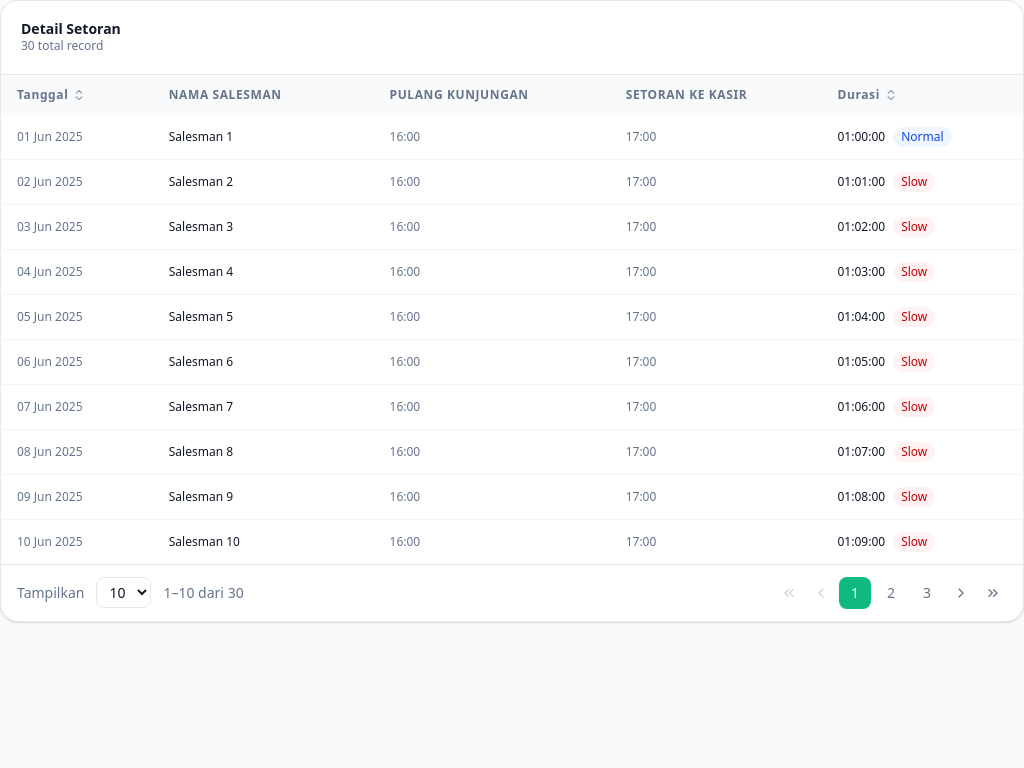
Workflow 5 — Table navigation: pagination controls (Requirements 5.1, 8.3, 8.4, 8.5) › navigates to the previous page after going forward
# Go to page 2
Click the button named "halaman berikutnya". click: (961,593)
box: left=947, top=579, right=975, bottom=607
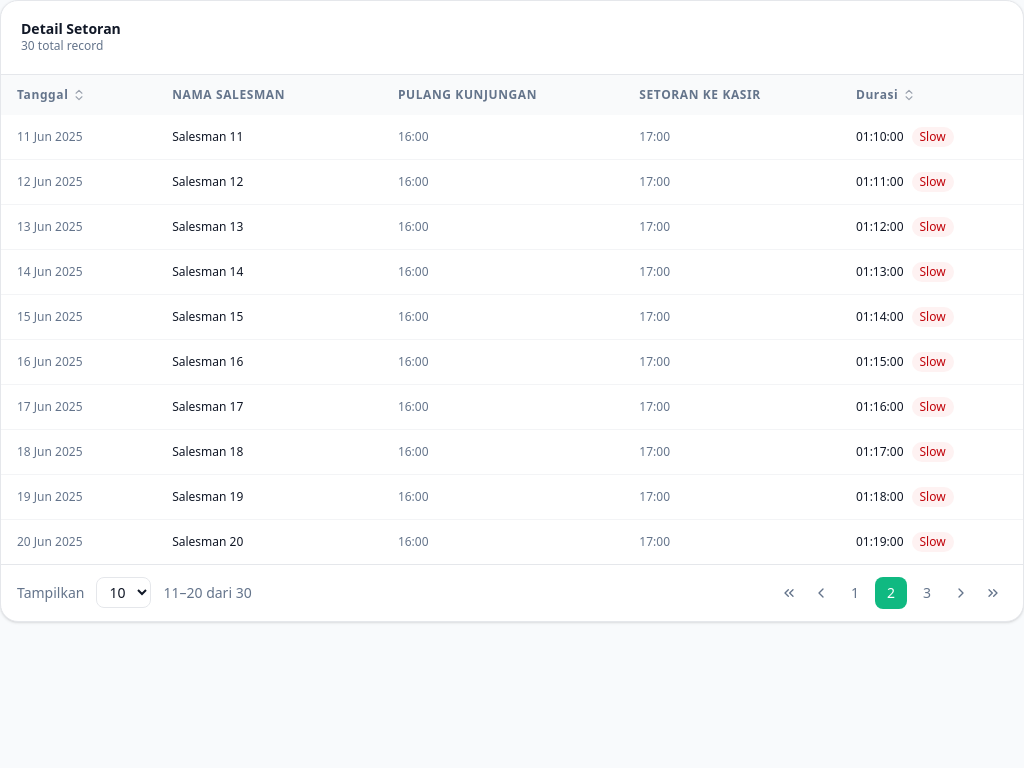
Expected: the text "11–20 dari 30" is shown, left=163, top=583, right=252, bottom=603
# Go back to page 1
Click the button named "halaman sebelumnya". click: (821,593)
box: left=807, top=579, right=835, bottom=607
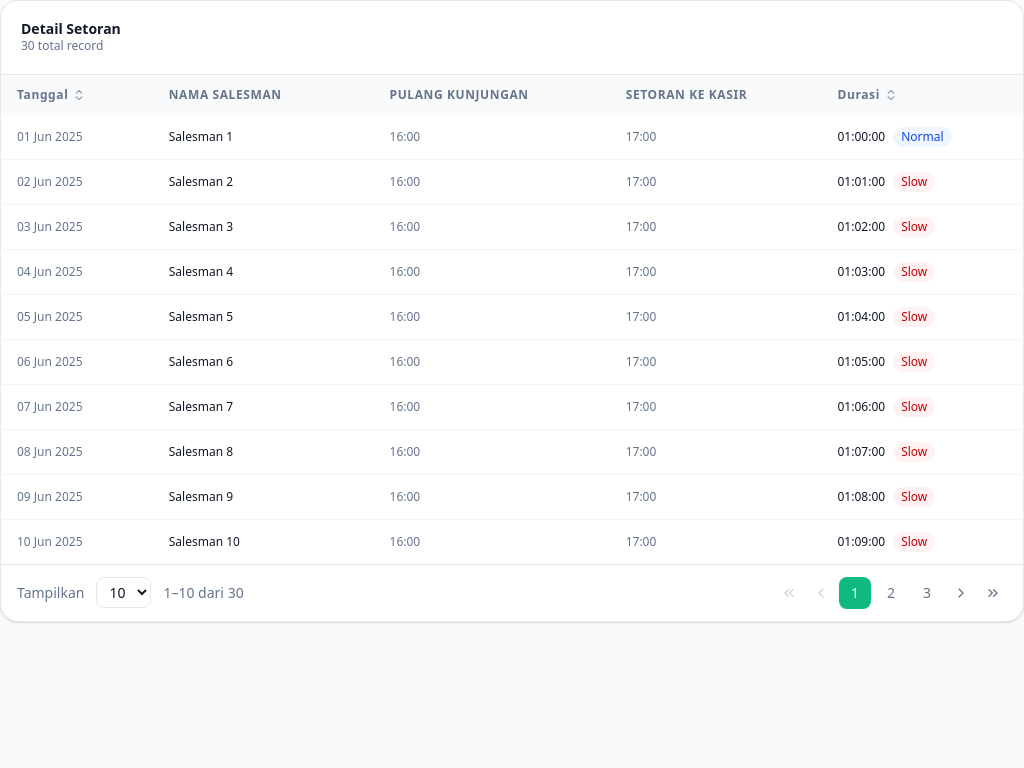
Expected: the text "1–10 dari 30" is shown, left=163, top=583, right=244, bottom=603
